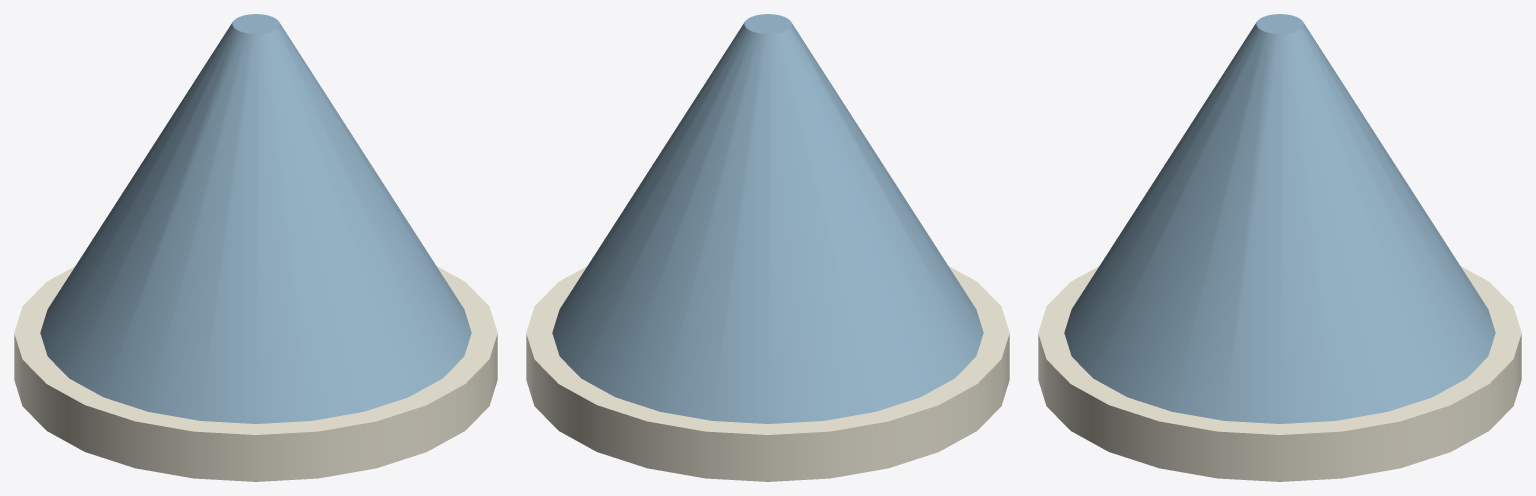
File: towerTopRoof.glb
The picture shows the model from 3 angles, left to right: view 1: azimuth 30°, elevation 25°; view 2: azimuth 150°, elevation 25°; view 3: azimuth 270°, elevation 25°; orthographic projection.
Visible parts, largest first — view 1: towerTopRoof; view 2: towerTopRoof; view 3: towerTopRoof.
Boxes of the visible parts, bbox=[...] form: towerTopRoof: bbox=[14, 14, 497, 481]; towerTopRoof: bbox=[526, 14, 1009, 481]; towerTopRoof: bbox=[1038, 14, 1521, 481].
Size of the model in its own units: 11.21 by 9.1 by 11.21.
